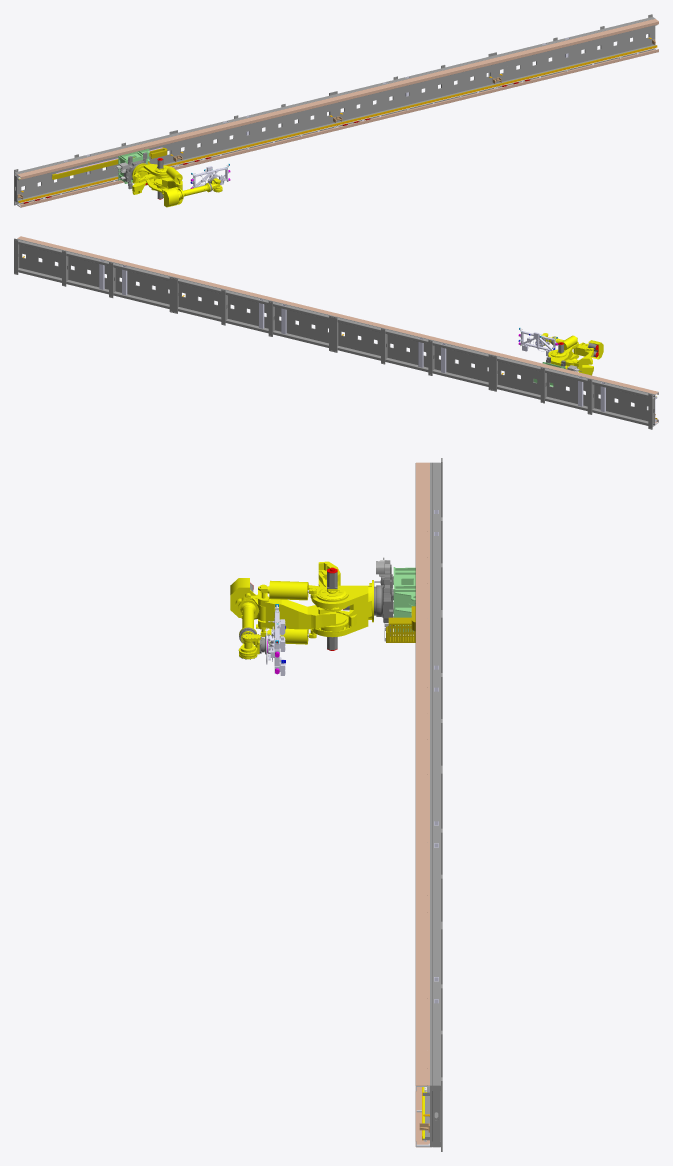
File: transRobot.glb
3 renders of one model, top to bottom at view 1: azimuth 30°, elevation 25°; view 2: azimuth 150°, elevation 25°; view 3: azimuth 270°, elevation 25°, orthographic. The views are drawn at different scales.
Visible parts, largest first — view 1: CHAZ-HTSJ-01-00.002, CHAZ-HTSJ-01-00.003, CHAZ-HTSJ-01-00.004, CHAZ-HTSJ-01-00.1, M900iA_if-600F.1.1, 60X125X6000.1, CHAZ-HTSJ-11.012, CHAZ-HTSJ-11.6, CHAZ-HTSJ-11.018, CHAZ-HTSJ-11.024, CHAZ-HTSJ-11.1, CHAZ-HTSJ-11.019 (+6 smaller); view 2: CHAZ-HTSJ-01-00.1, CHAZ-HTSJ-01-00.002, CHAZ-HTSJ-01-00.003, CHAZ-HTSJ-01-00.004, M900iA-600F.3.1, 953F&955F-OP10-GR-001-BASE-01.1, M900iA_if-600F.2a.1, M900iA_if-600F.1.1; view 3: CHAZ-HTSJ-01-00.004, M900iA_if-600F.1.1, CHAZ-HTSJ-01-00.1, CHAZ-HTSJ-01-00.003, CHAZ-HTSJ-01-00.002, M900iA_if-600F.2.1, M900iA_if-600F.2c.1, CHAZ-HTSJ-03.1.
Boxes of the visible parts, left/top/right/bottom form: CHAZ-HTSJ-01-00.002: left=174, top=92, right=337, bottom=165; CHAZ-HTSJ-01-00.003: left=333, top=53, right=497, bottom=126; CHAZ-HTSJ-01-00.004: left=493, top=14, right=656, bottom=87; CHAZ-HTSJ-01-00.1: left=14, top=131, right=178, bottom=205; M900iA_if-600F.1.1: left=132, top=158, right=169, bottom=199; 60X125X6000.1: left=51, top=147, right=167, bottom=179; CHAZ-HTSJ-11.012: left=247, top=105, right=303, bottom=123; CHAZ-HTSJ-11.6: left=88, top=144, right=144, bottom=162; CHAZ-HTSJ-11.018: left=407, top=66, right=463, bottom=84; CHAZ-HTSJ-11.024: left=566, top=27, right=622, bottom=45; CHAZ-HTSJ-11.1: left=17, top=162, right=73, bottom=179; CHAZ-HTSJ-11.019: left=496, top=45, right=552, bottom=62; CHAZ-HTSJ-01-00.1: left=492, top=355, right=657, bottom=429; CHAZ-HTSJ-01-00.002: left=333, top=316, right=495, bottom=390; CHAZ-HTSJ-01-00.003: left=173, top=277, right=335, bottom=351; CHAZ-HTSJ-01-00.004: left=14, top=238, right=176, bottom=312; M900iA-600F.3.1: left=551, top=336, right=598, bottom=357; 953F&955F-OP10-GR-001-BASE-01.1: left=520, top=331, right=555, bottom=350; M900iA_if-600F.2a.1: left=565, top=356, right=593, bottom=375; M900iA_if-600F.1.1: left=548, top=342, right=568, bottom=369; CHAZ-HTSJ-01-00.004: left=422, top=925, right=442, bottom=1151; M900iA_if-600F.1.1: left=310, top=567, right=373, bottom=650; CHAZ-HTSJ-01-00.1: left=430, top=458, right=442, bottom=618; CHAZ-HTSJ-01-00.003: left=430, top=769, right=442, bottom=929; CHAZ-HTSJ-01-00.002: left=430, top=614, right=442, bottom=774; M900iA_if-600F.2.1: left=256, top=587, right=348, bottom=632; M900iA_if-600F.2c.1: left=260, top=580, right=308, bottom=644; CHAZ-HTSJ-03.1: left=393, top=567, right=415, bottom=632.
Bounding box in the file's own units: 24 × 1.46 × 3.45.
